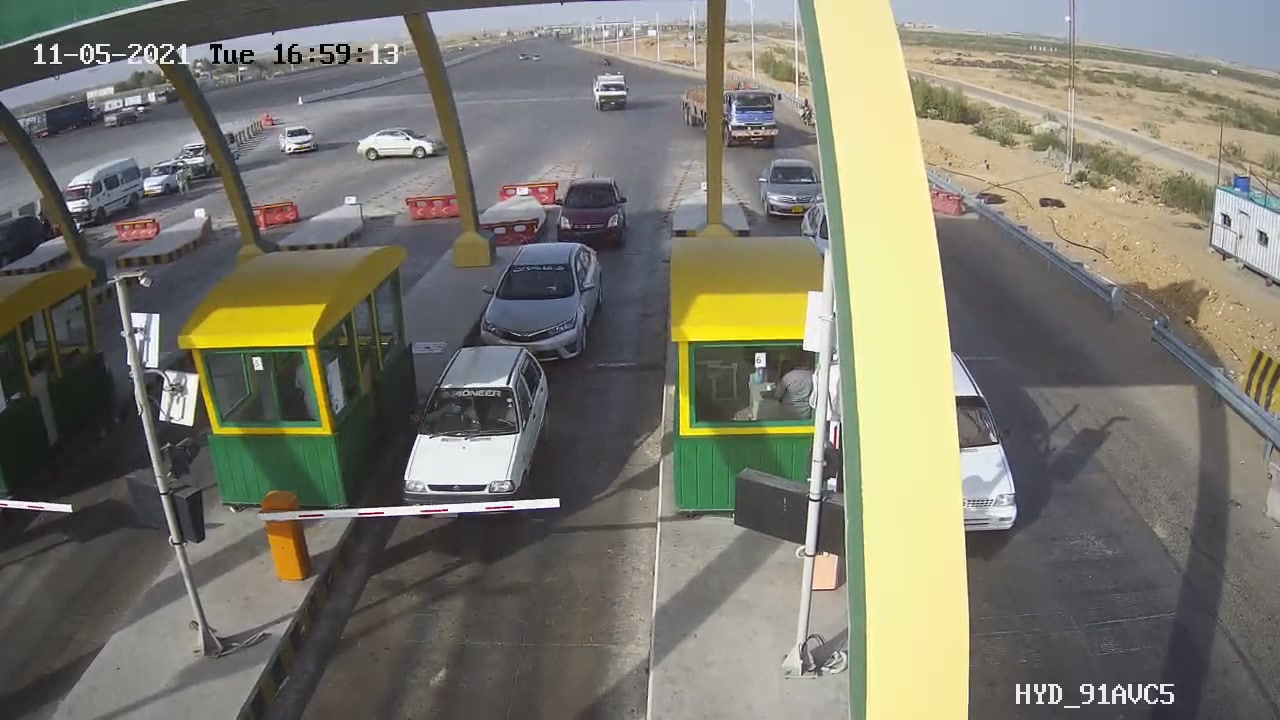F1: (387, 331, 568, 519), (472, 233, 614, 381), (541, 167, 644, 262)
